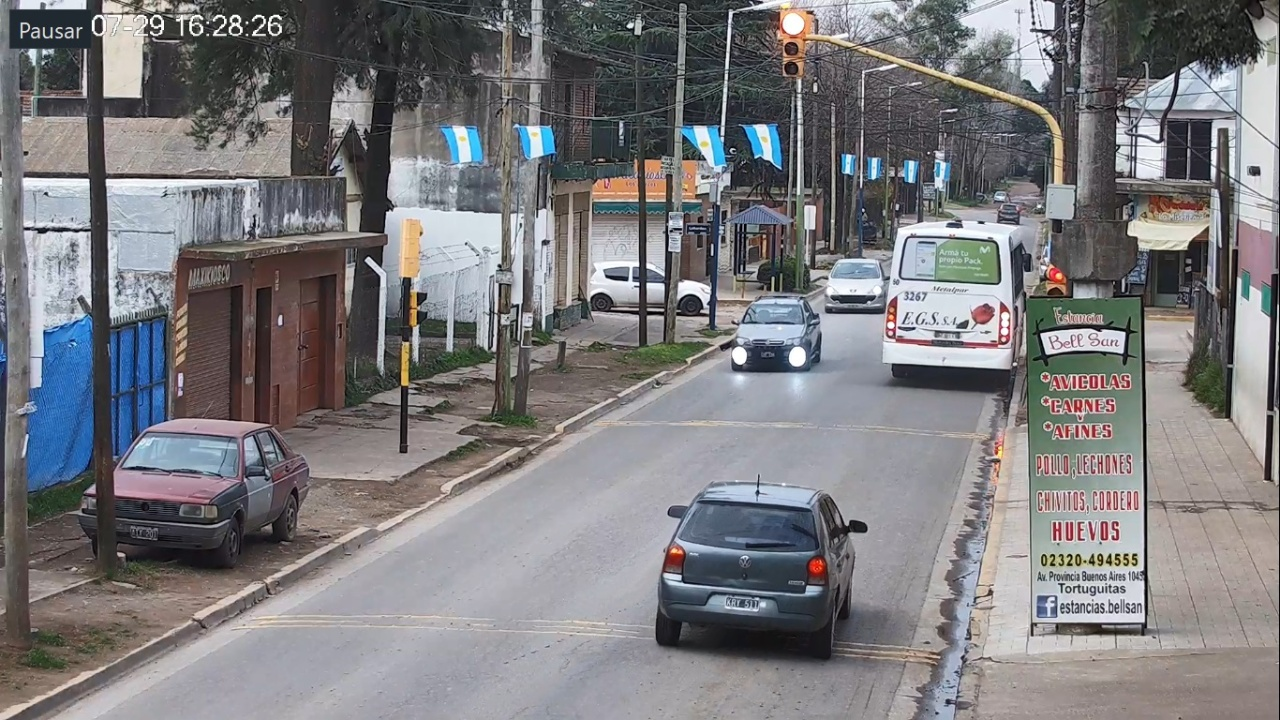bus: (881, 222, 1032, 383)
car: (656, 482, 868, 659)
front car: (732, 298, 822, 371)
traffic light: (783, 11, 802, 76)
